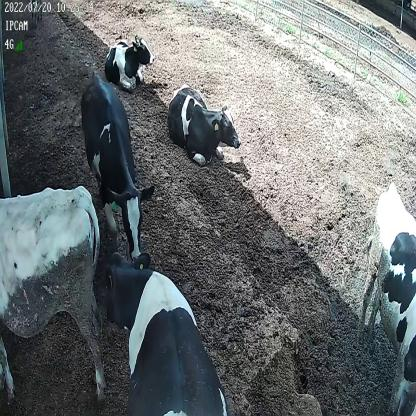cow: (101, 247, 229, 416), (80, 70, 157, 260), (166, 83, 244, 166), (102, 32, 155, 90)
